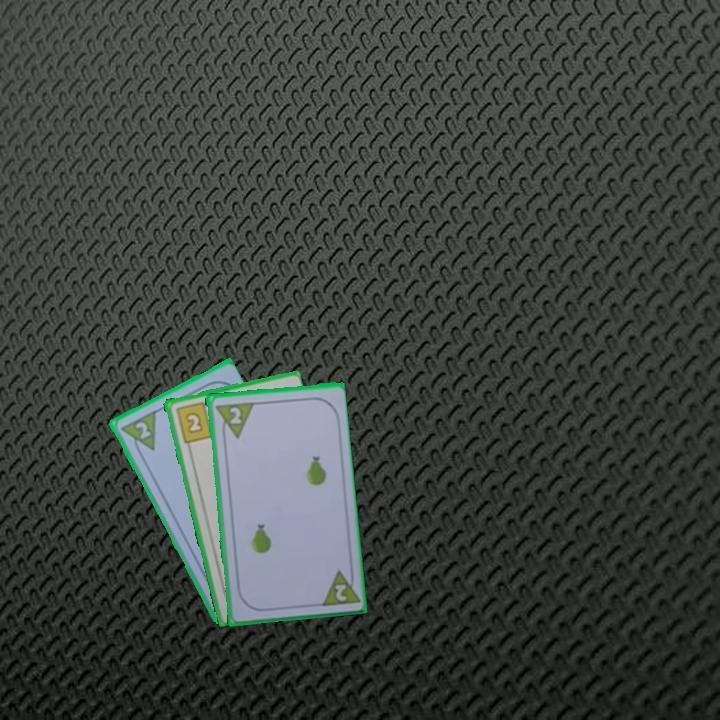2b: (172, 398, 215, 446)
2p: (116, 407, 159, 459), (316, 564, 361, 609), (226, 403, 244, 426)
